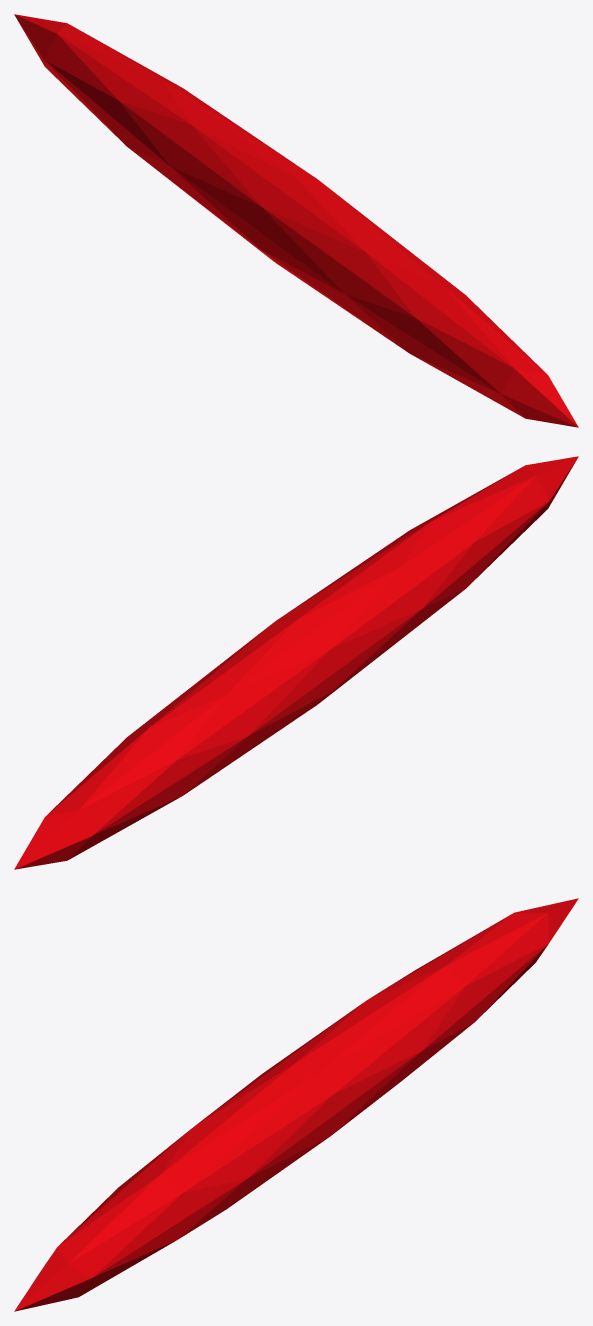
File: bullet.fbx
The picture shows the model from 3 angles, top to bottom: view 1: azimuth 30°, elevation 25°; view 2: azimuth 150°, elevation 25°; view 3: azimuth 330°, elevation 25°; orthographic projection.
Parts seen in each view (by area): view 1: Icosphere; view 2: Icosphere; view 3: Icosphere.
Boxes of the visible parts, x1,y1,x2,y2 form: Icosphere: (14,14,578,427); Icosphere: (14,456,578,869); Icosphere: (14,898,578,1311).
Bounding box in the file's own units: 190 × 200 × 2400.
